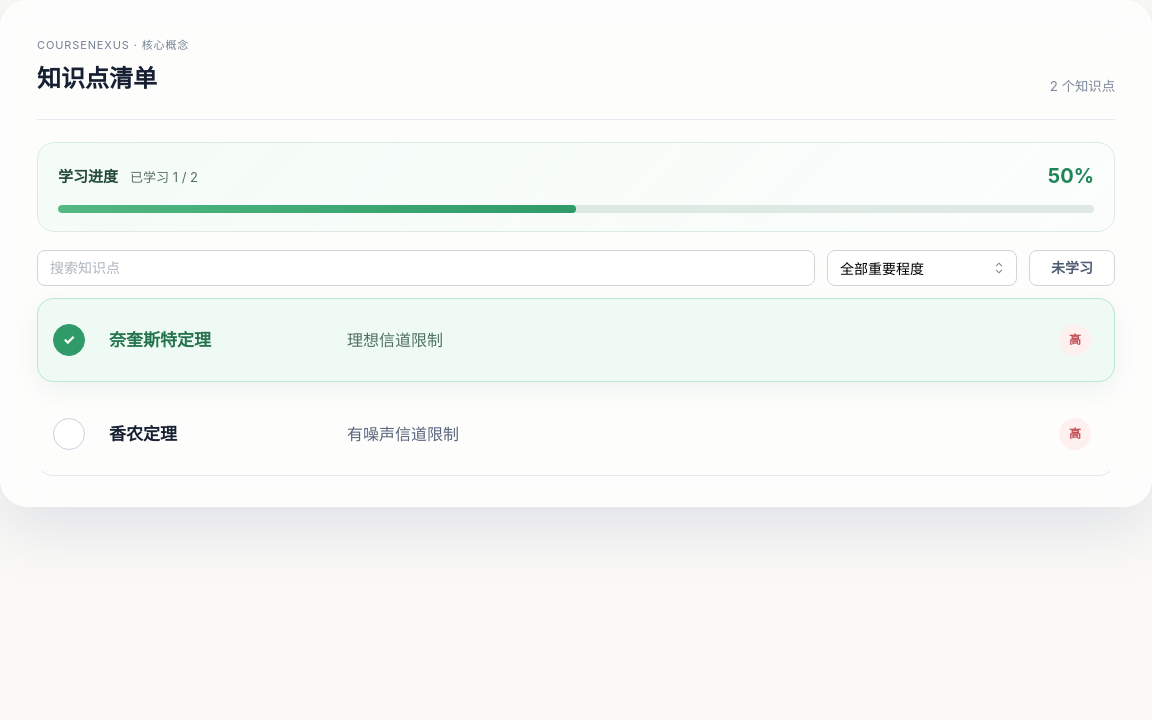
Test: generated content renderers › persists learned knowledge items and keeps progress based on the full list
Expected: the text "已学习 1 / 2" is shown, [130,167,198,187]
Expected: the text "50%" is shown, [1048,161,1094,192]
Type "香农" into the field with placeholder "搜索知识点" at (426, 268), box [37,250,815,286]
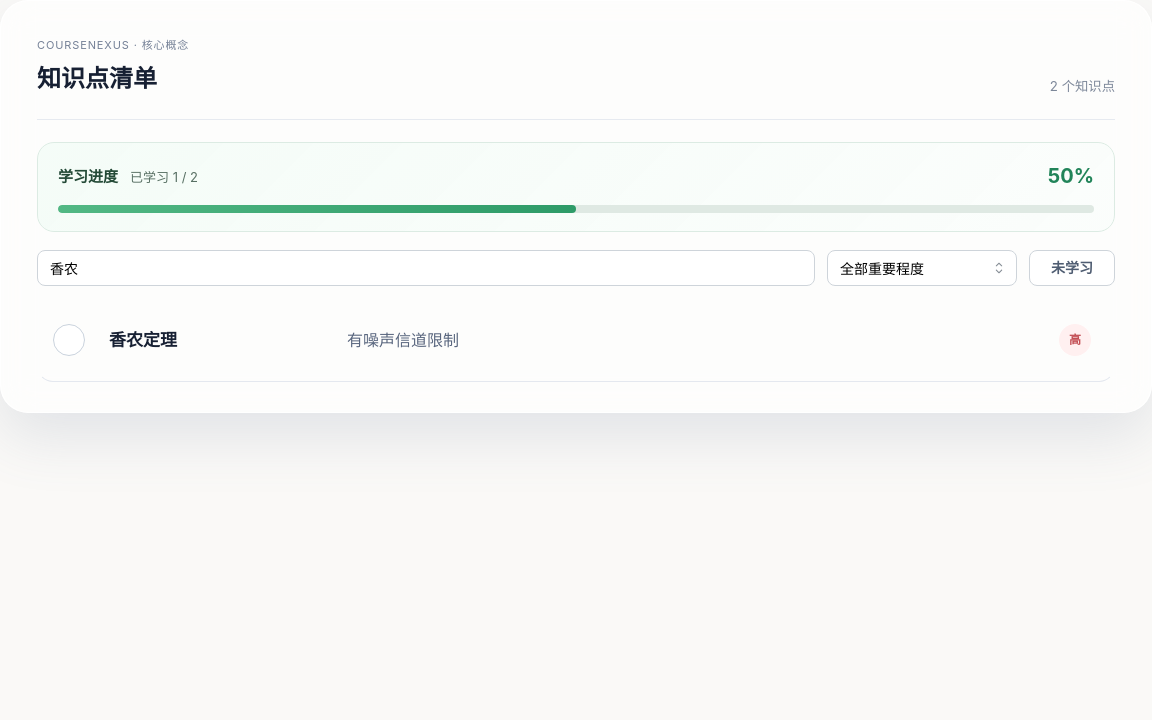
Expected: the text "已学习 1 / 2" is shown, [130,167,198,187]
Click the button named "标记香农定理为已学习" at (69, 340), box [53,324,85,356]
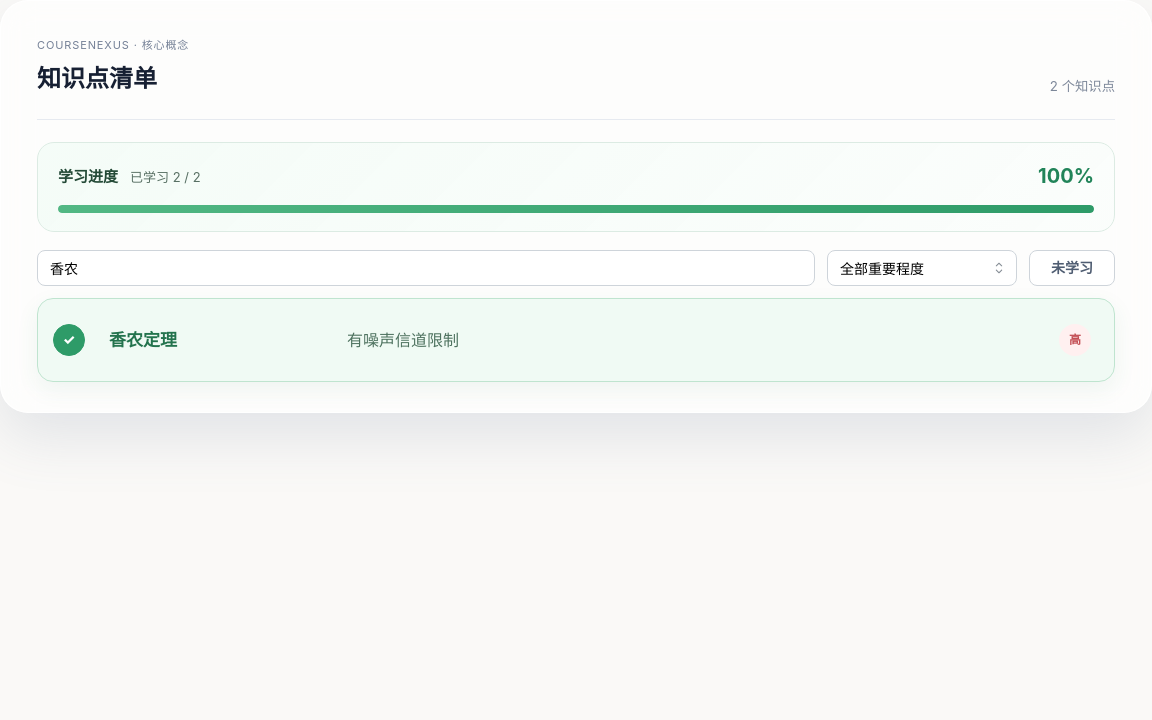
Expected: the text "已学习 2 / 2" is shown, [130,167,200,187]
Expected: the text "100%" is shown, [1038,161,1094,192]
